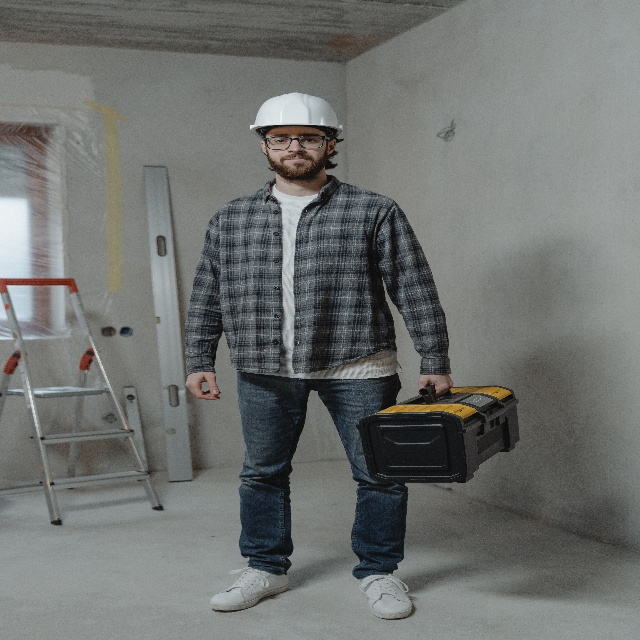Sin_guantes: (416, 372, 452, 399), (184, 374, 220, 399)
